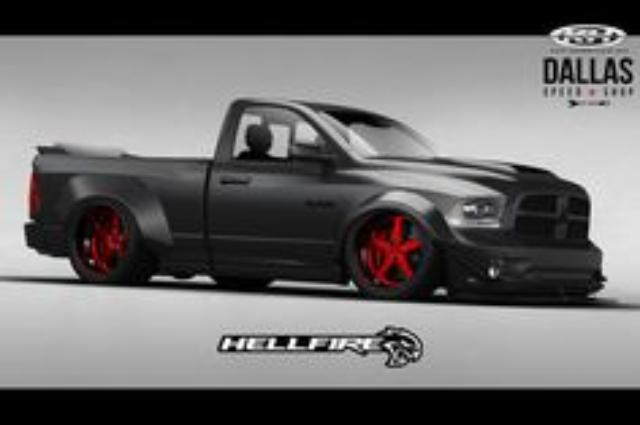pickup-truck: (23, 96, 606, 305)
